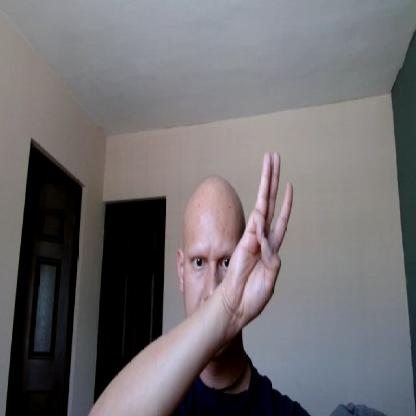W: (228, 148, 296, 326)
